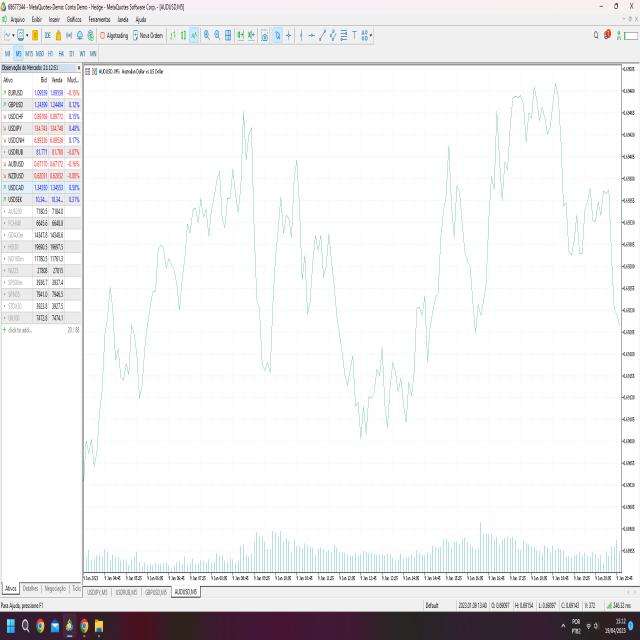fundo_duplo: (349, 346, 383, 446)
